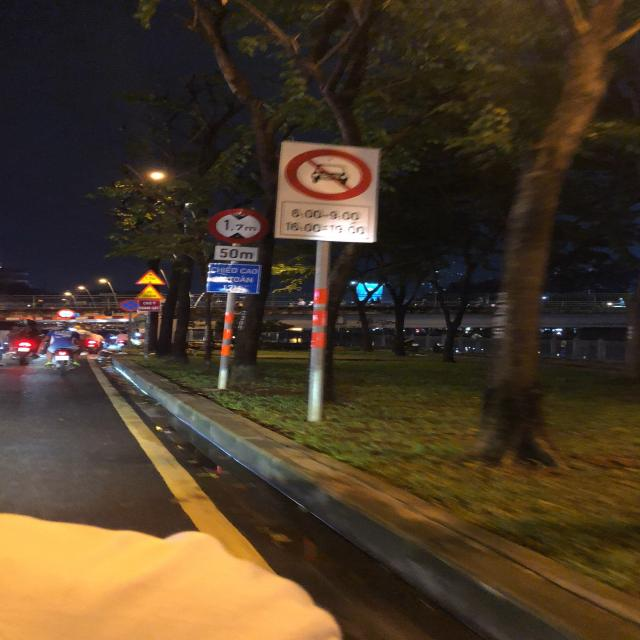Bien bao cam xe oto: (279, 142, 375, 200)
Bien bao chieu cao tinh khong thuc te: (134, 268, 167, 286)
Bien bao di cham: (134, 284, 167, 300)
Bien bao han che chieu cao: (204, 207, 273, 244)
